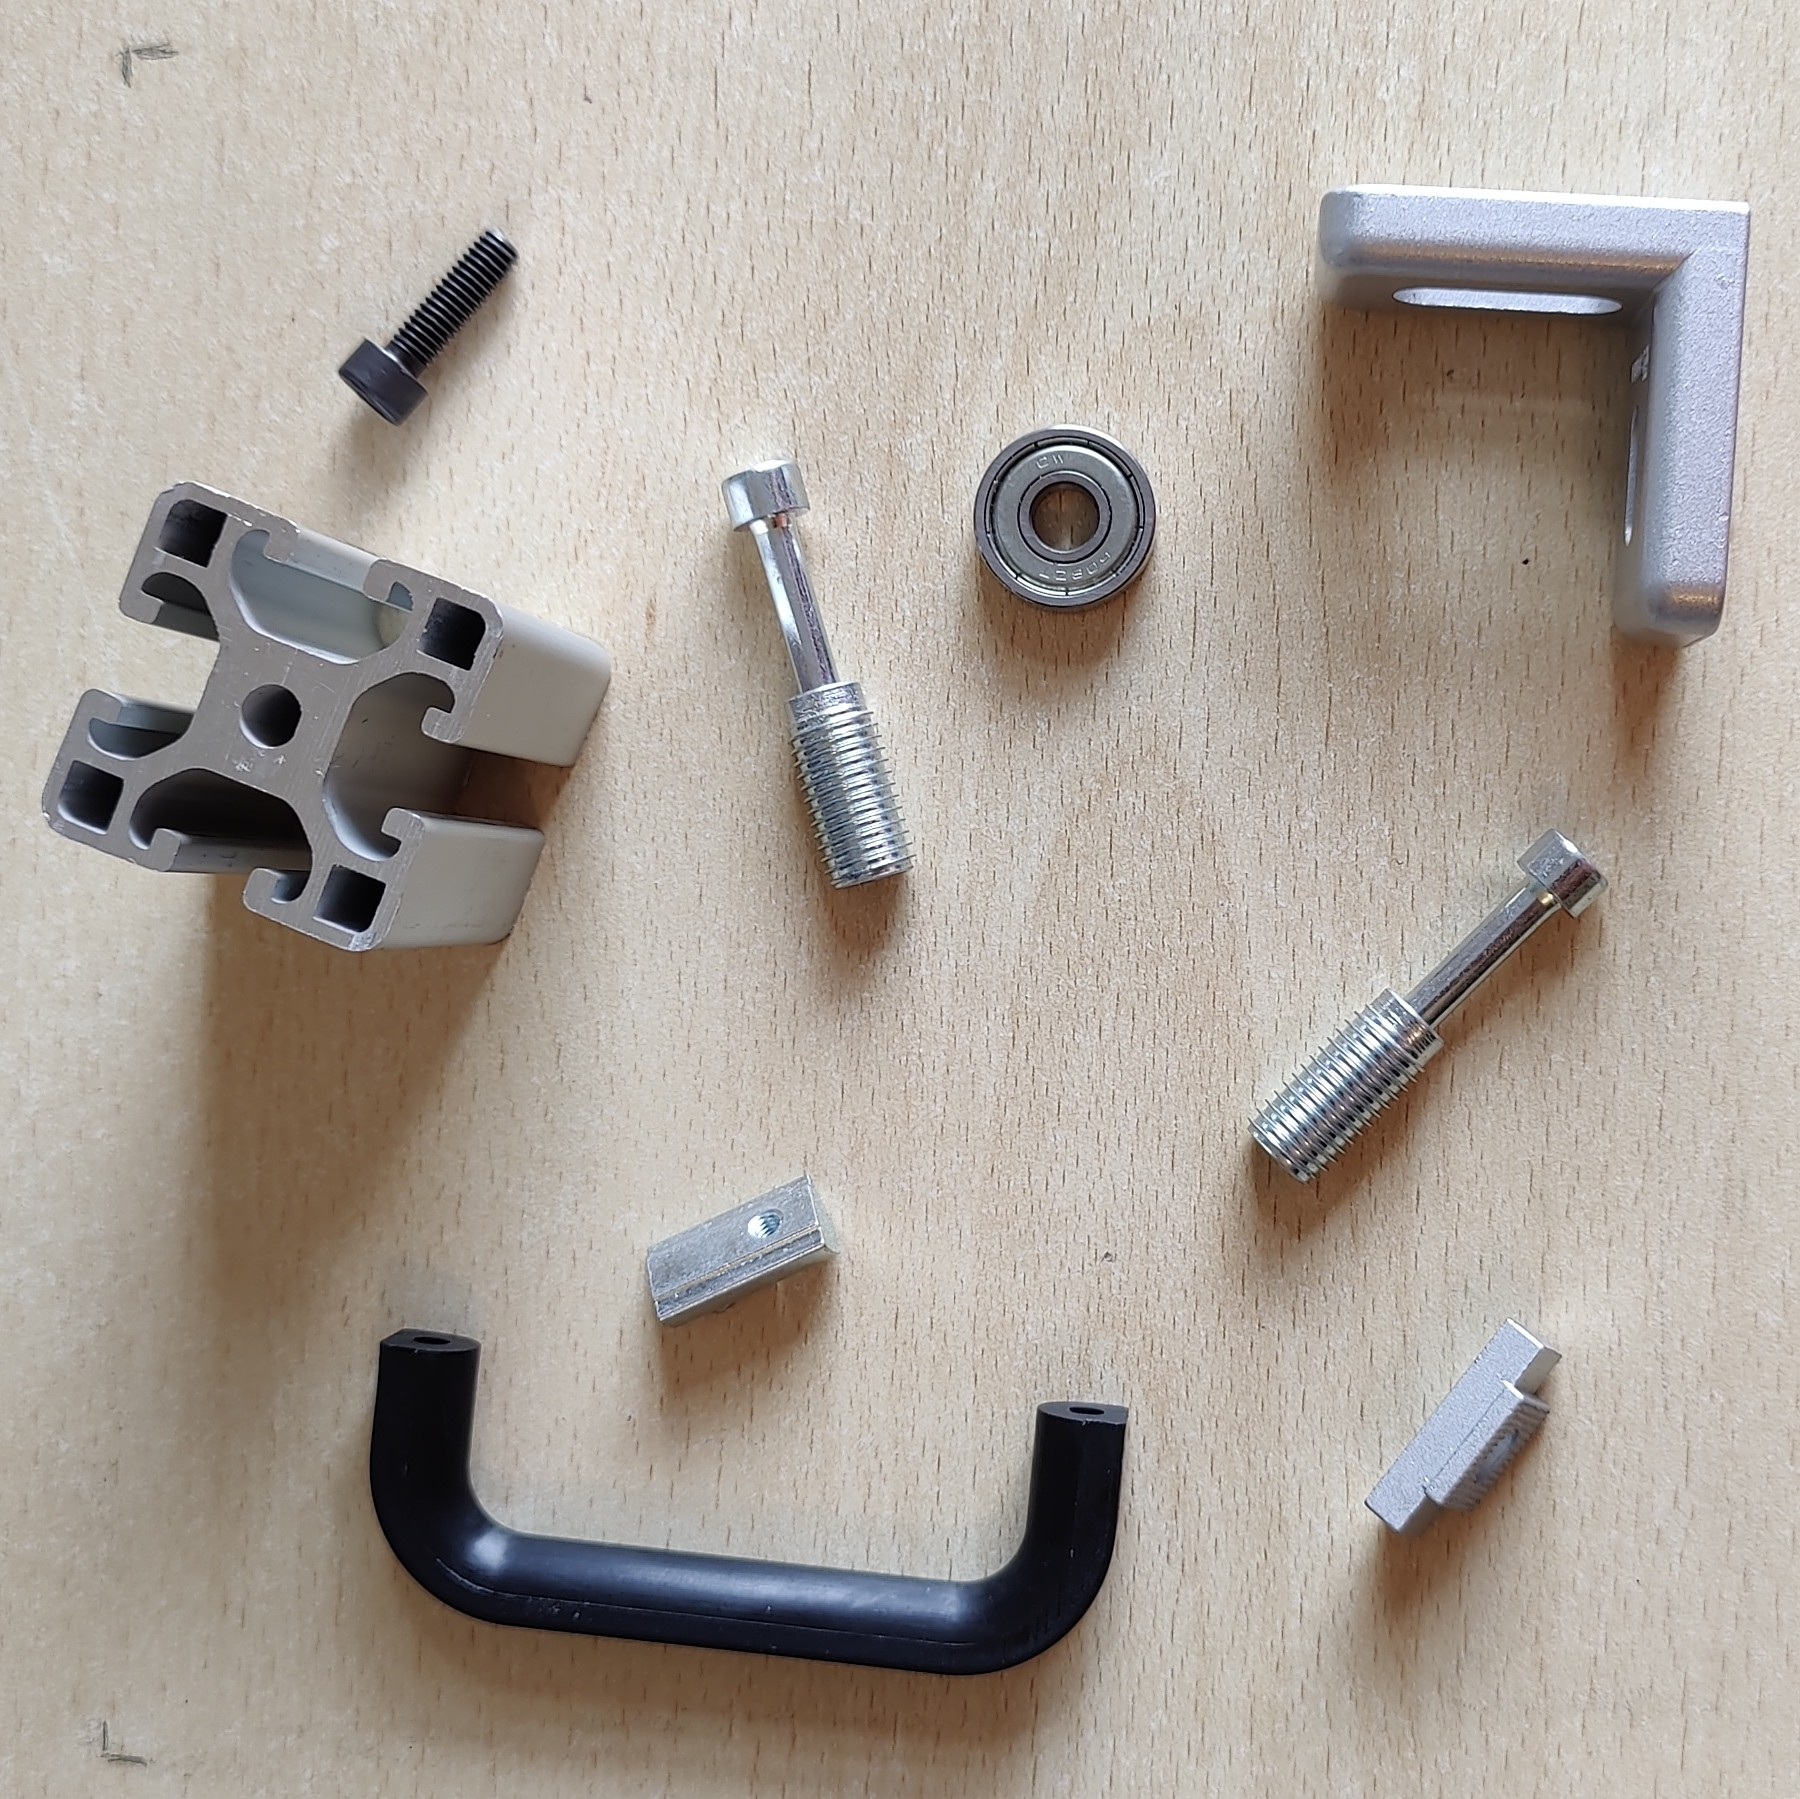Aluminium Extension: (36, 478, 613, 954)
Ball Bearing: (972, 422, 1161, 618)
Multiwinkel: (1313, 181, 1754, 652)
Pull Handle: (366, 1326, 1131, 1680)
Shoulder Socket Head Cap Screw: (1243, 824, 1612, 1191), (720, 460, 921, 891)
Socket Head Cap Screw: (338, 226, 524, 430)
T Nut Square: (1360, 1311, 1563, 1540)
T Spring Nut: (642, 1170, 846, 1329)
